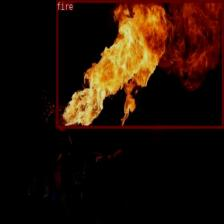fire: (55, 0, 224, 128)
